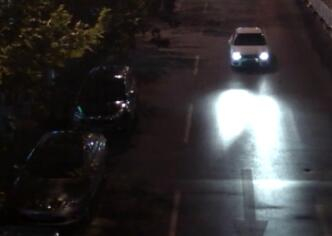car: (10, 124, 108, 225), (63, 58, 140, 134), (226, 24, 275, 74)
